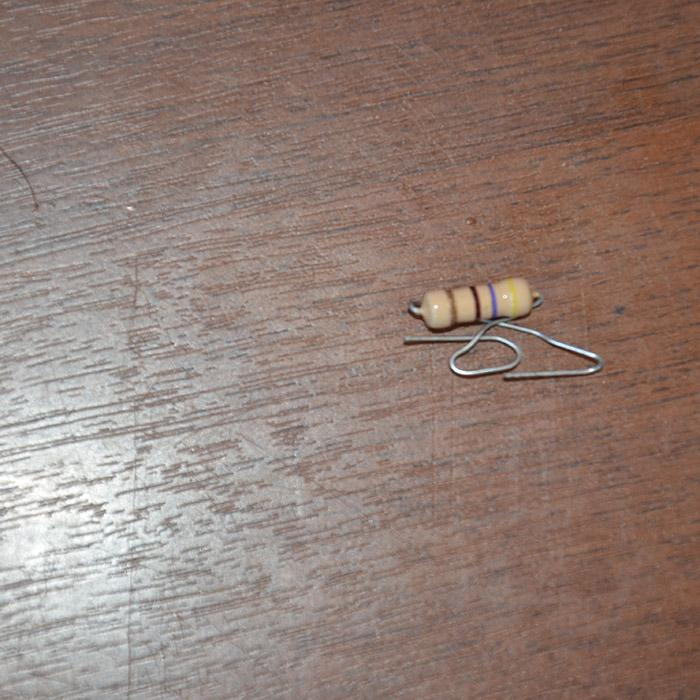resistor: (410, 277, 538, 329)
